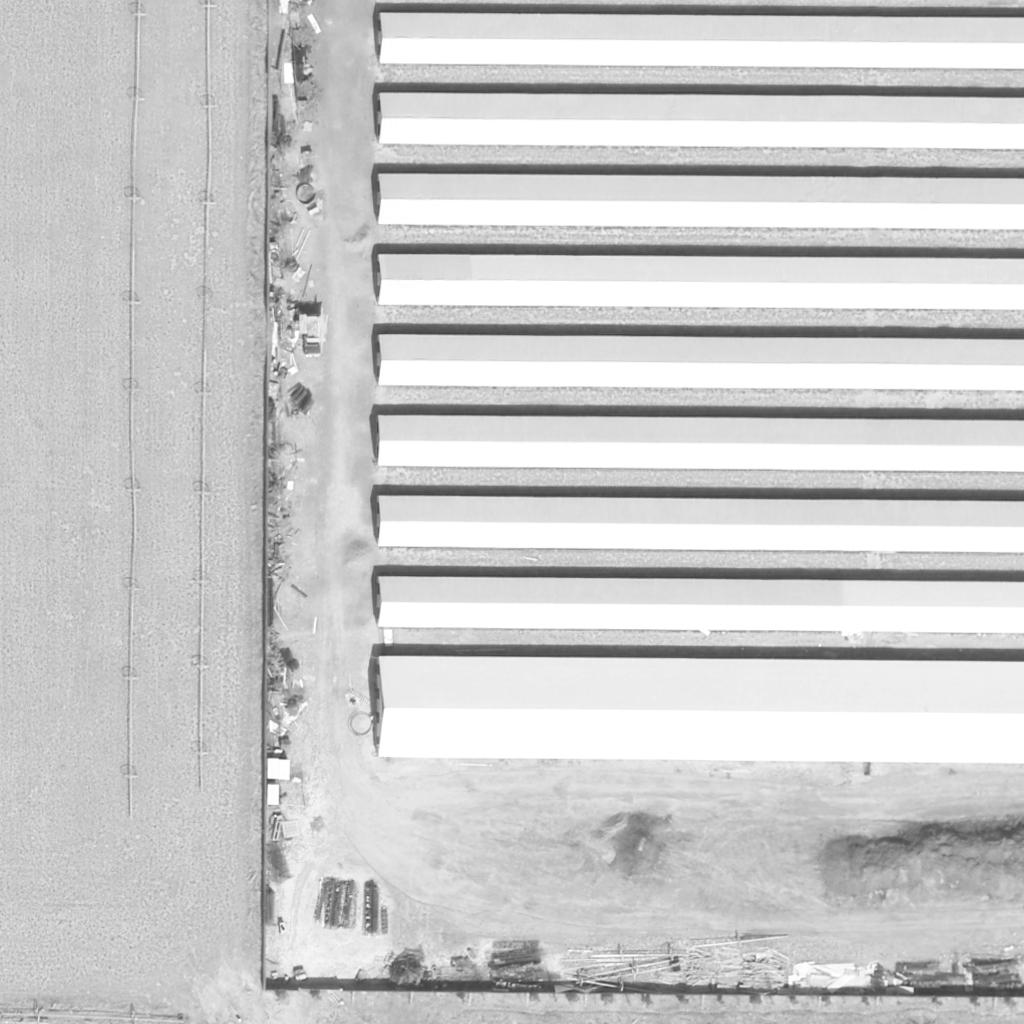vehicle: (301, 314, 323, 358)
